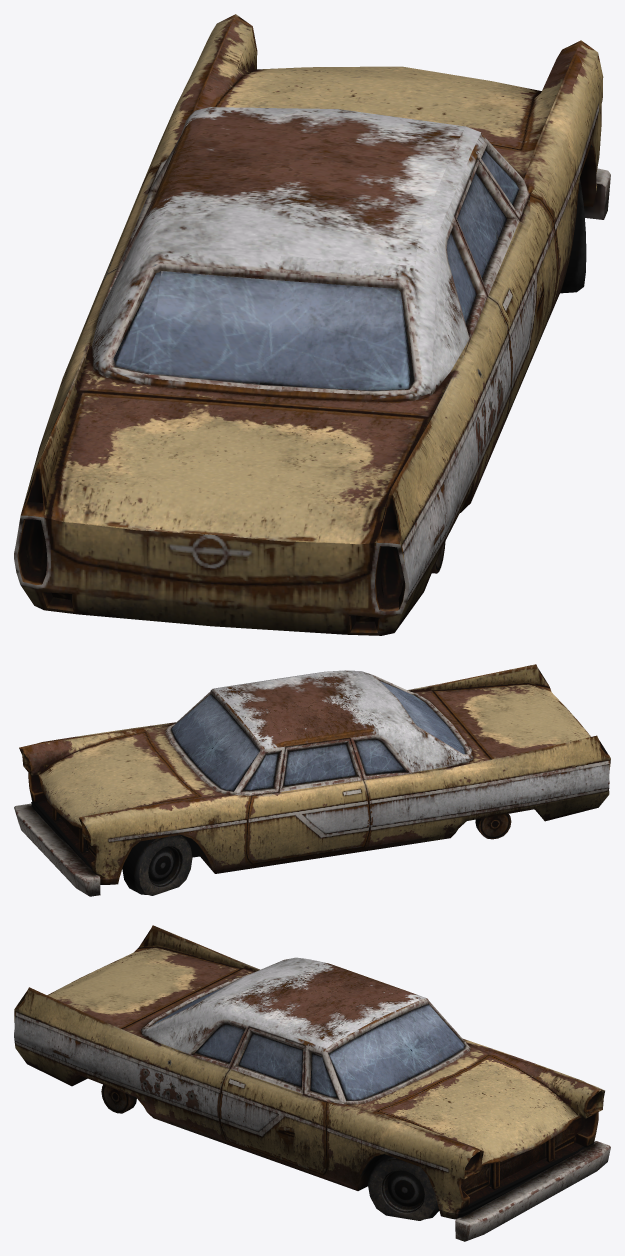
Rendered from Vintage car.fbx.
3 views of the same model, one above another, from view 1: azimuth 30°, elevation 25°; view 2: azimuth 150°, elevation 25°; view 3: azimuth 270°, elevation 25° (orthographic). The views are drawn at different scales.
Visible parts, largest first — view 1: Car; view 2: Car; view 3: Car.
Boxes of the visible parts, <box> form: Car: <box>14,14,610,635</box>; Car: <box>14,664,610,896</box>; Car: <box>14,925,610,1241</box>.
Bounding box in the file's own units: 644 × 171 × 696.
